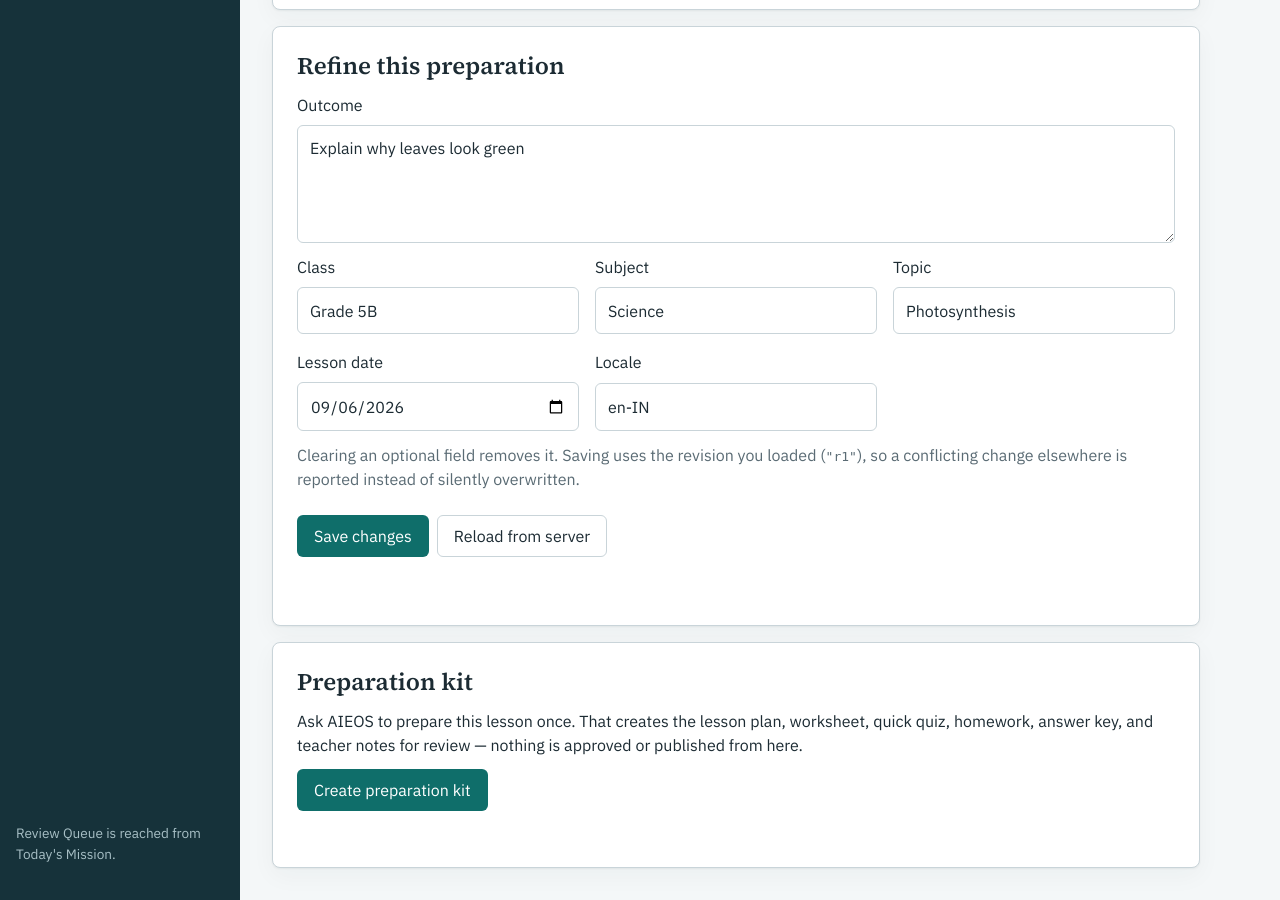
Test: TOS-DEV04-I09 Work preparation kit › shows six canonical artifacts after successful prepare
(page scrolled)
Click the button "Create preparation kit" at [392, 790], box [297,769,488,811]
(page scrolled)
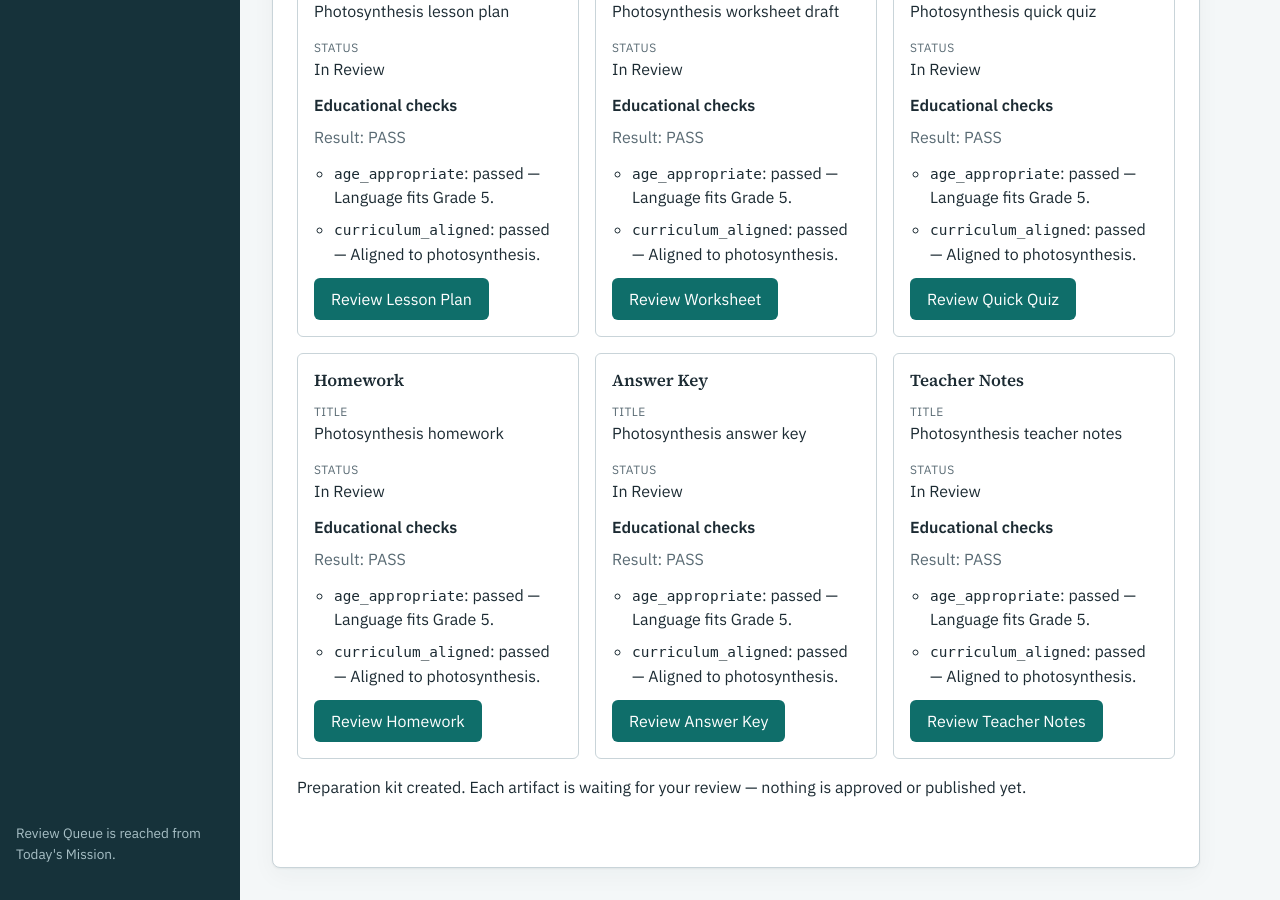
Expected: the heading "Homework" is shown, [314,369,404,392]
Expected: the heading "Answer Key" is shown, [612,369,708,392]
Expected: the heading "Teacher Notes" is shown, [910,369,1024,392]
